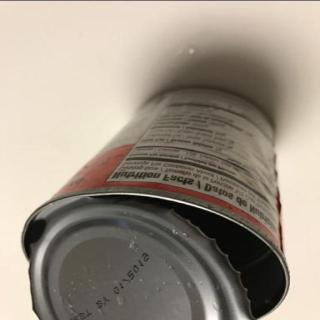Anorganik: (27, 83, 297, 315)
